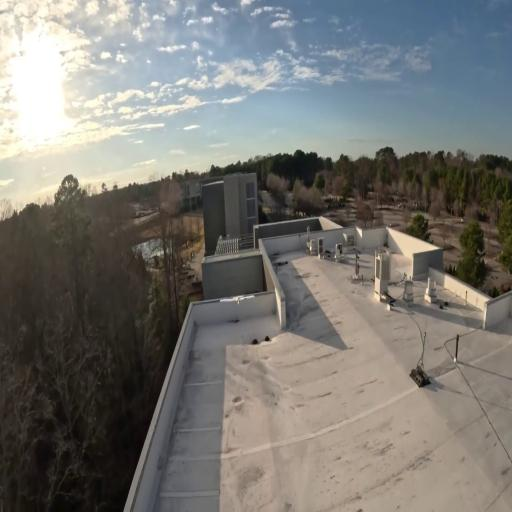uav: (218, 292, 256, 309)
